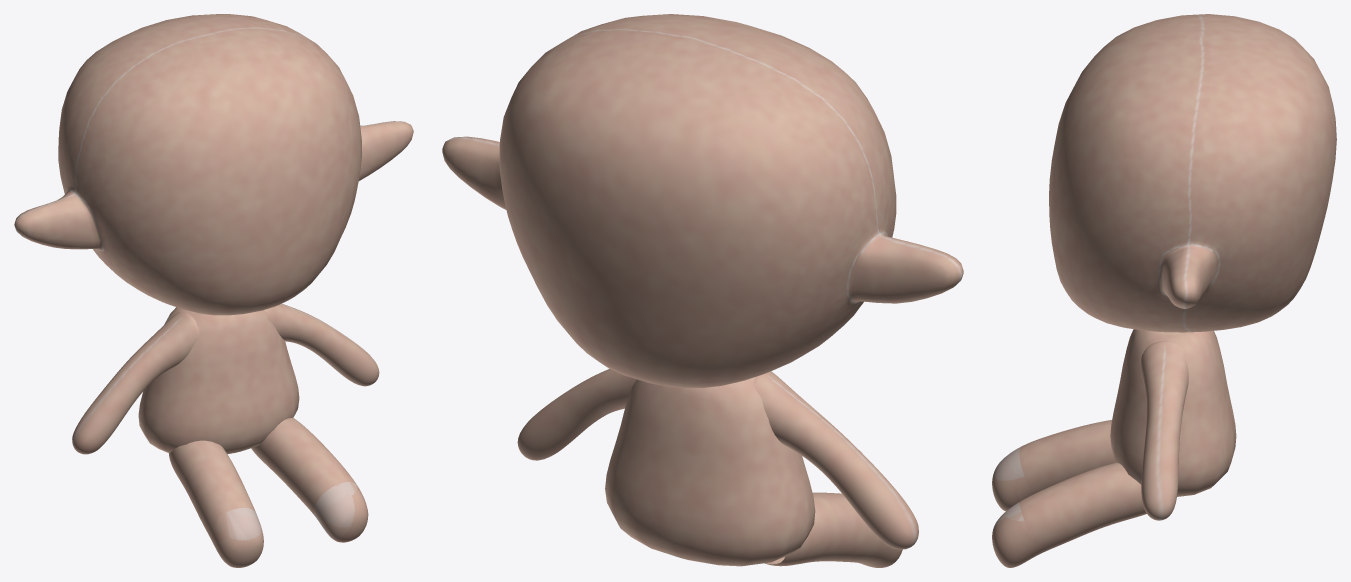
The model's file is Pink.glb.
3 renders of one model, left to right at view 1: azimuth 30°, elevation 25°; view 2: azimuth 150°, elevation 25°; view 3: azimuth 270°, elevation 25°, orthographic. The views are drawn at different scales.
Visible parts, largest first — view 1: Pink; view 2: Pink; view 3: Pink.
Boxes of the visible parts, x1=… form: Pink: x1=14, y1=14, x2=413, y2=567; Pink: x1=442, y1=14, x2=963, y2=567; Pink: x1=992, y1=14, x2=1336, y2=567.
Size of the model in its own units: 1.34 by 1.47 by 0.9208.
1 material, 1 textured.
